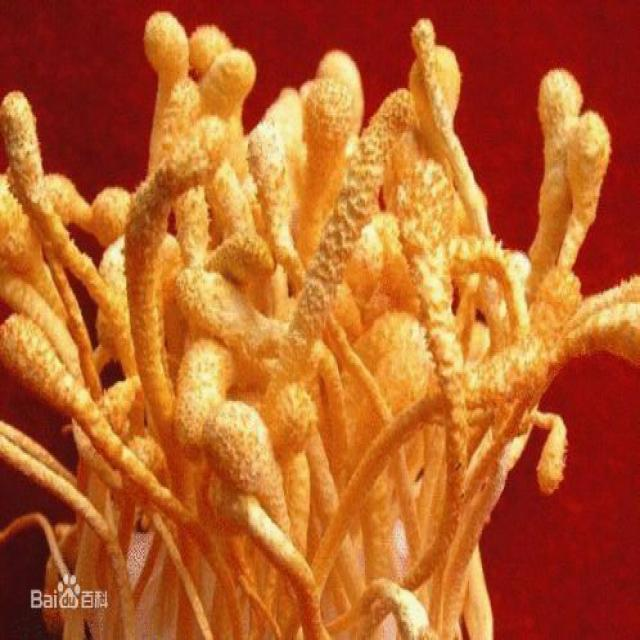Cordyceps militaris: (0, 12, 639, 635)
